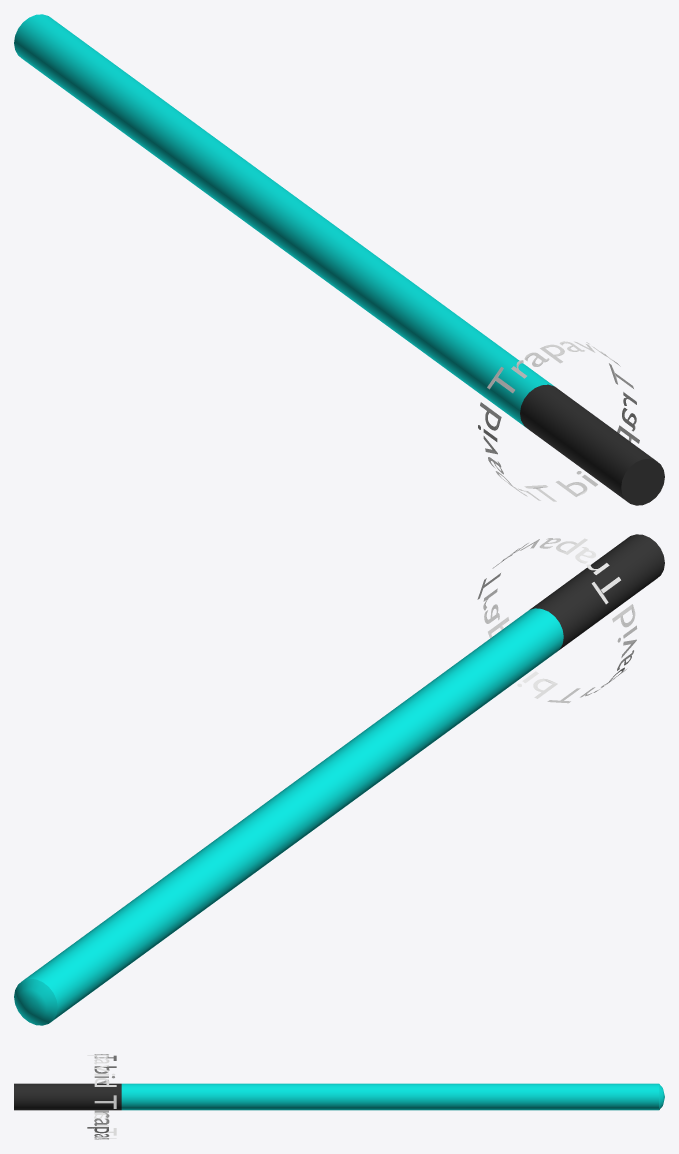
File: cool text.fbx
The picture shows the model from 3 angles, top to bottom: view 1: azimuth 30°, elevation 25°; view 2: azimuth 150°, elevation 25°; view 3: azimuth 270°, elevation 25°; orthographic projection. The views are drawn at different scales.
Visible parts, largest first — view 1: Saber, Text; view 2: Saber, Text; view 3: Saber, Text.
Part boxes in pixels (box(x1,y1,x2,y2)): Saber: box(14, 14, 664, 505); Text: box(478, 341, 639, 501); Saber: box(14, 534, 664, 1025); Text: box(477, 538, 637, 703); Saber: box(14, 1083, 664, 1110); Text: box(87, 1054, 116, 1139).
Size of the model in its own units: 15.99 by 15.99 by 121.
